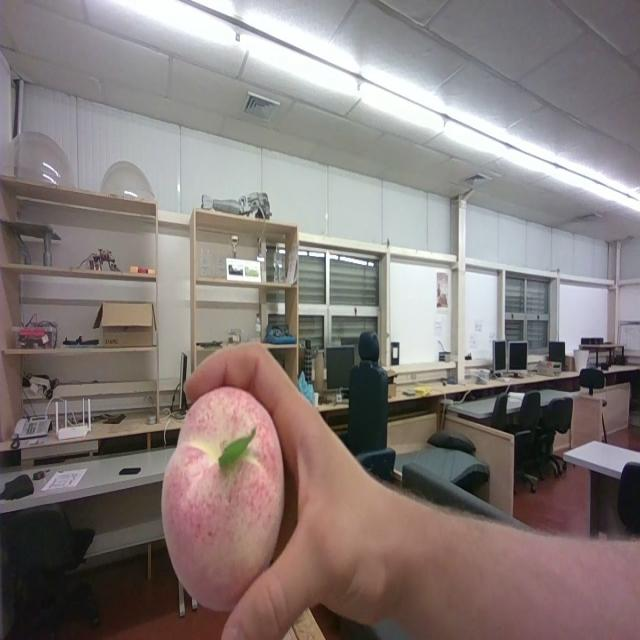peach: (161, 387, 284, 611)
